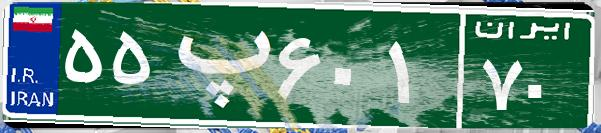0: (330, 28, 385, 110), (525, 38, 570, 115)
1: (385, 28, 445, 110)
5: (57, 26, 110, 107), (110, 28, 158, 105)
6: (273, 28, 330, 110)
7: (475, 38, 525, 113)
پ: (158, 15, 273, 115)
